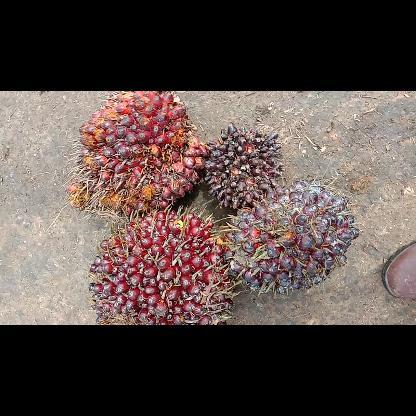Kurang masak: (87, 208, 235, 324), (223, 176, 361, 294)
TBS abnormal: (204, 124, 284, 210)
TBS masak: (65, 92, 207, 214)
